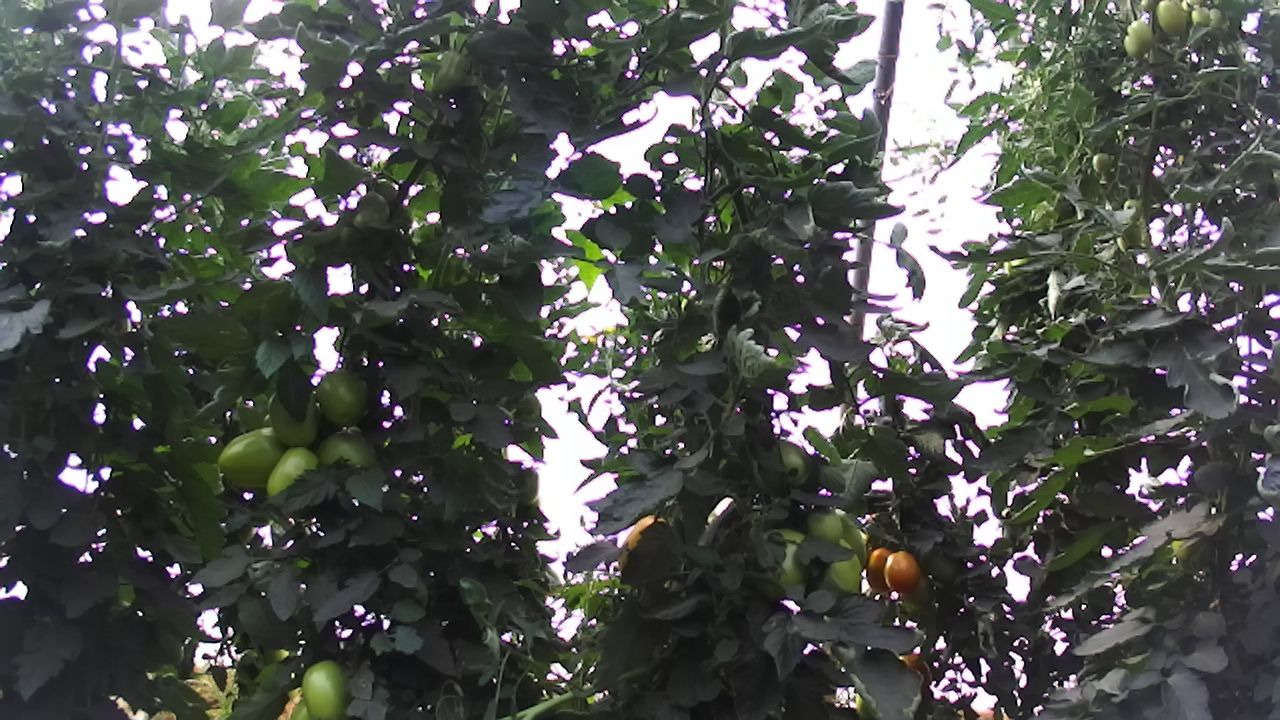tomato: (212, 429, 294, 495), (311, 366, 372, 429), (261, 441, 323, 501), (298, 656, 354, 720), (863, 541, 900, 594), (883, 546, 924, 592), (804, 504, 845, 547), (1122, 14, 1156, 54), (1153, 0, 1189, 34), (1190, 5, 1215, 30)
